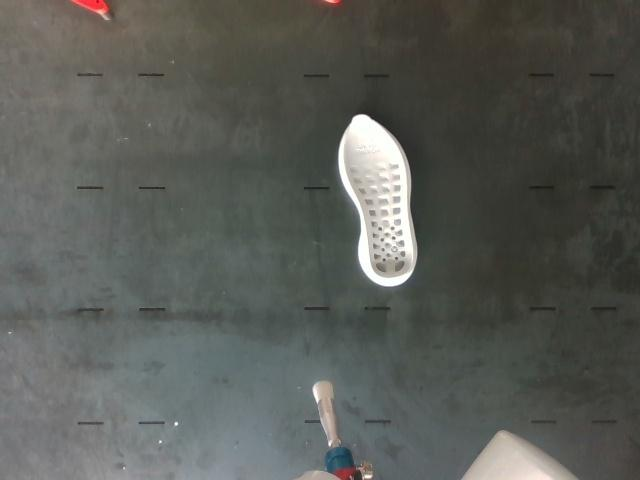shoes: (343, 115, 412, 279)
